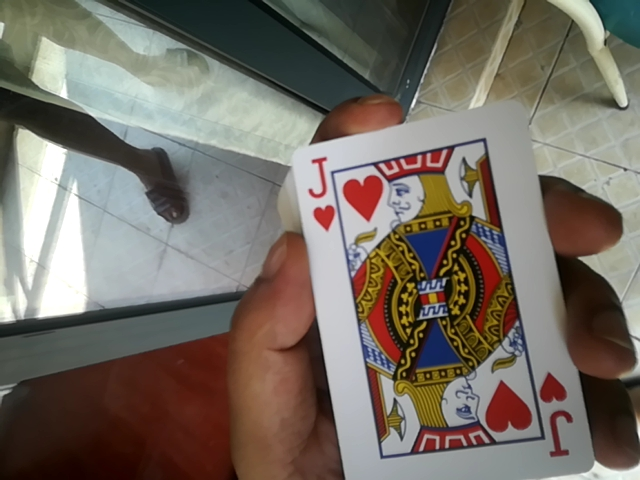hx j: (291, 112, 617, 480)
